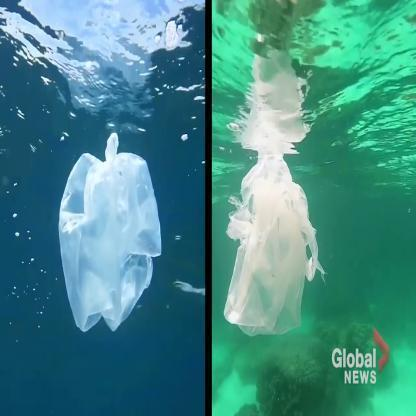Rác: (54, 123, 166, 329), (223, 142, 320, 355)
